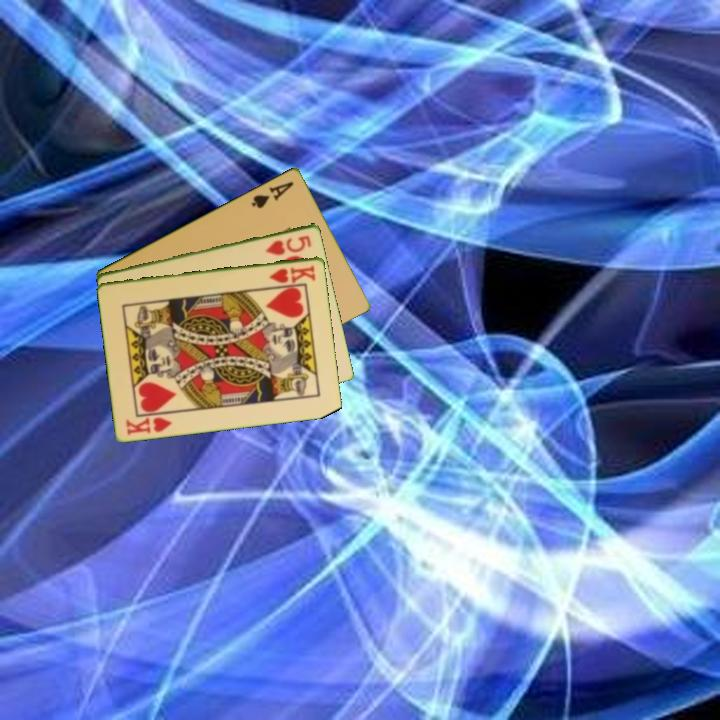5h: (262, 231, 314, 258)
As: (248, 177, 297, 211)
Kh: (266, 261, 318, 286), (123, 413, 175, 438)
